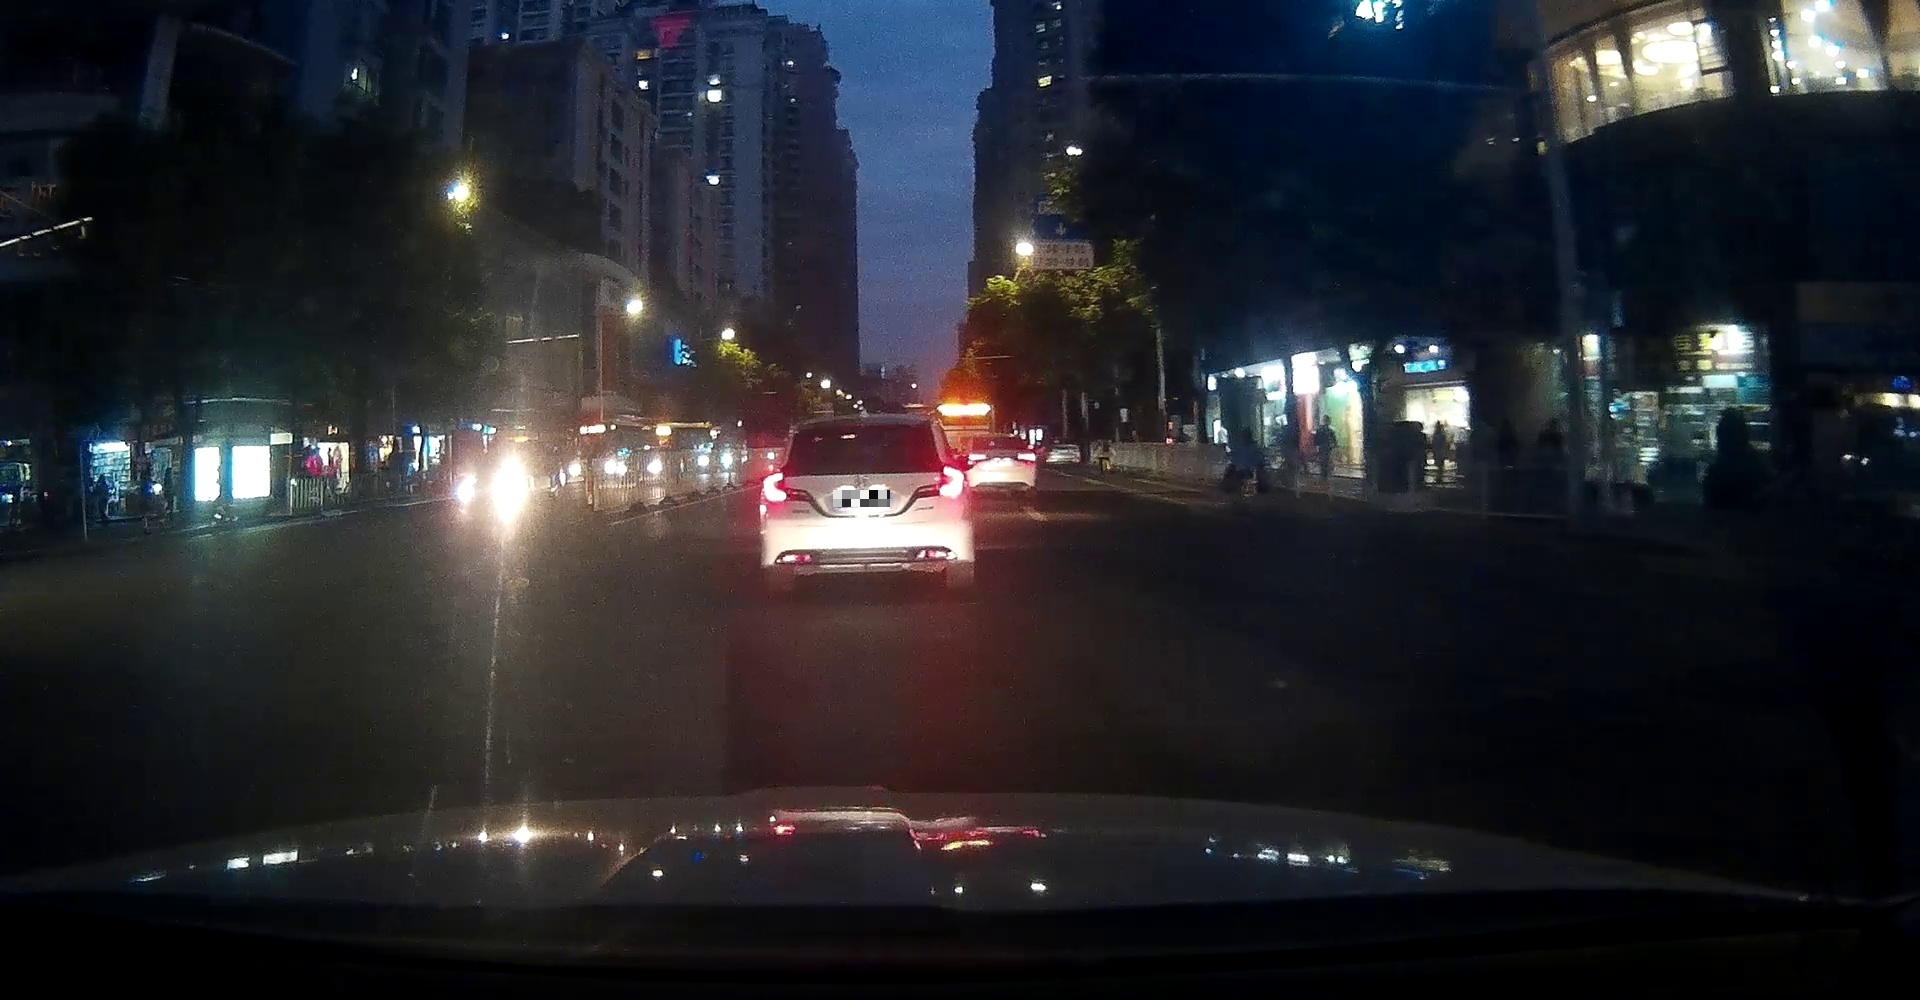L_light: (761, 470, 787, 505)
R_light: (937, 464, 966, 500)
T_light: (844, 420, 883, 430)
night-no: (758, 412, 977, 591)
plate_1: (833, 490, 890, 508)
